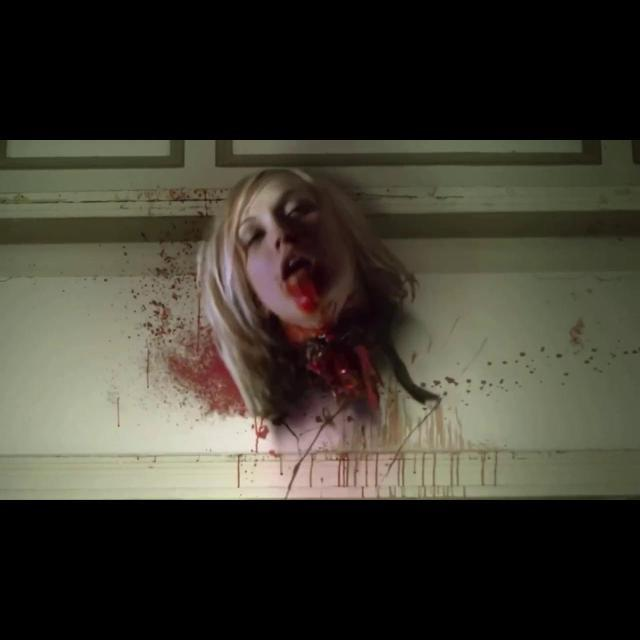blood: (243, 318, 511, 500), (117, 188, 248, 430), (284, 270, 326, 316), (312, 294, 360, 320)
